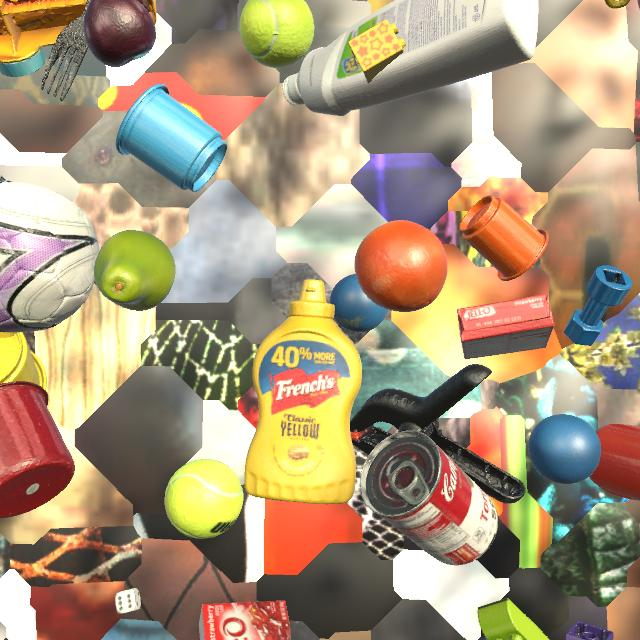ycb_005_tomato_soup_can: (359, 430, 498, 565)
ycb_006_mustard_bottle: (244, 279, 362, 504)
ycb_009_gelatin_box: (457, 294, 555, 359), (199, 600, 291, 640)
ycb_016_pear: (94, 230, 175, 311)
ycb_017_orange: (355, 220, 448, 312), (637, 0, 640, 9)
ycb_018_plum: (84, 0, 156, 67)
